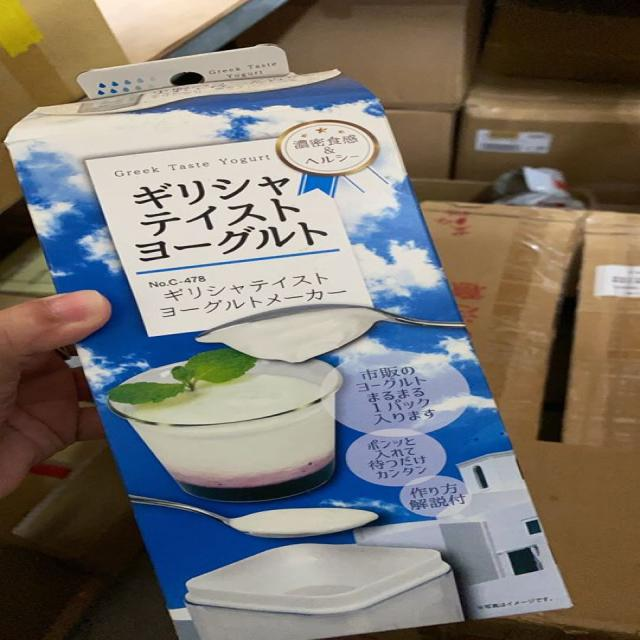cardboard: (6, 48, 569, 640)
